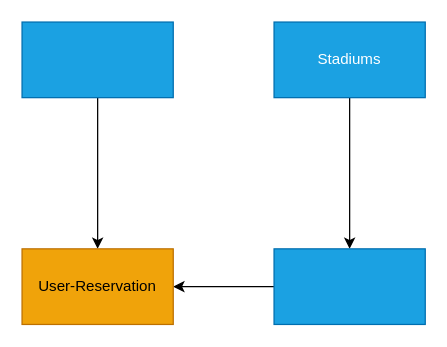
This 447x347 diagram has some shape labels left out. Each missing label, with the centre of its shape:
"Reservations" belongs at point 349,286.
"Users" belongs at point 97,59.
